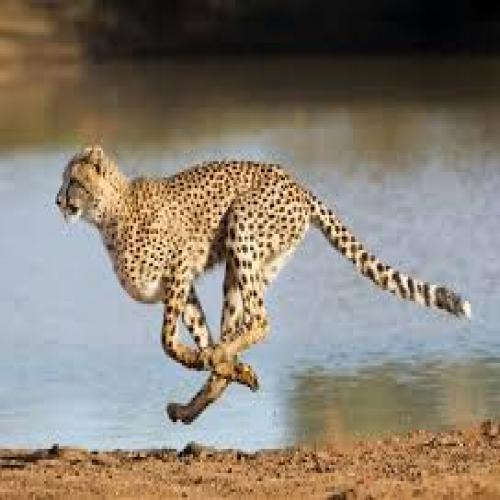cheetah-endangered: (53, 144, 474, 424)
